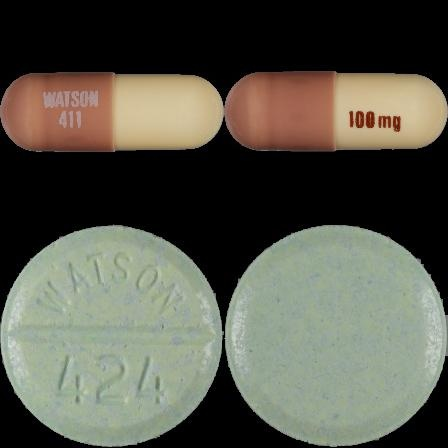0591-0411: (0, 0, 224, 224)
